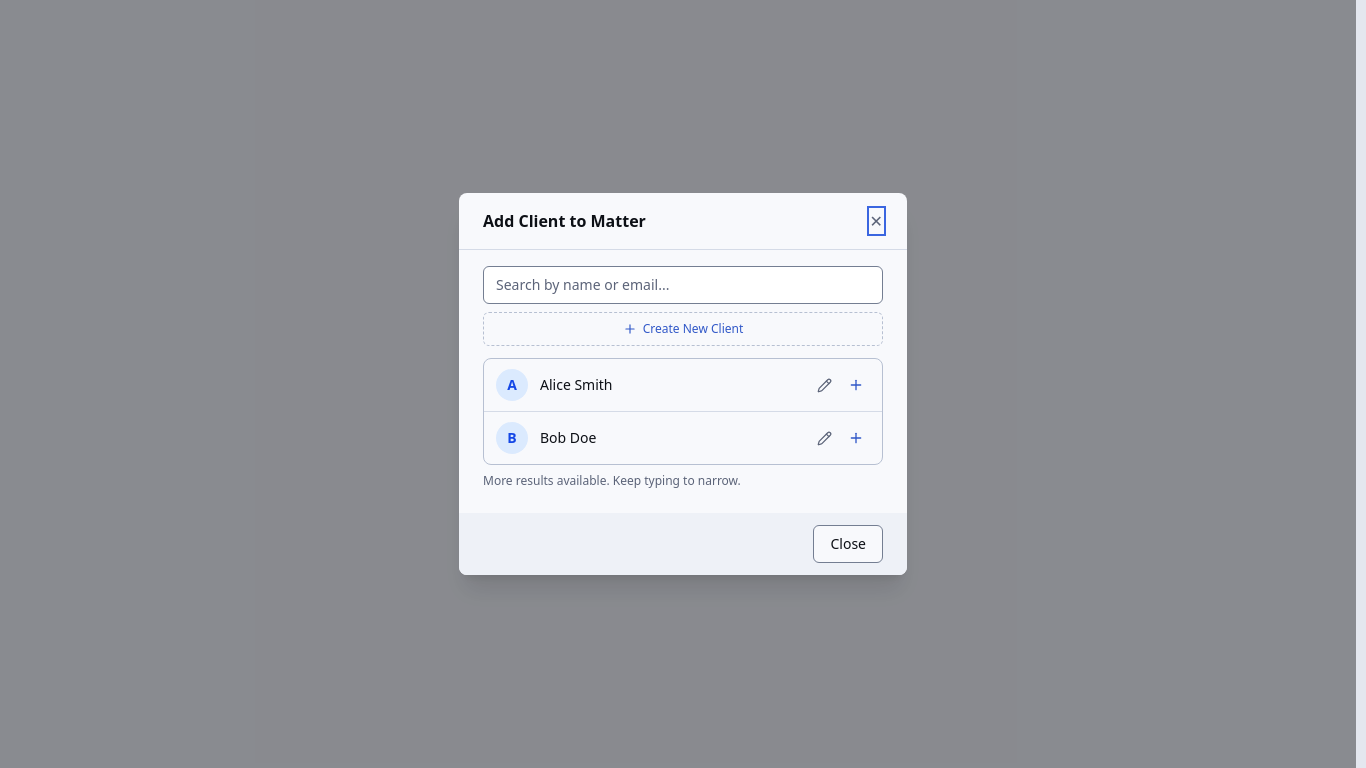
Test case: AddClientModal existing-client search › drops the note when a later load fails
This screenshot has width=1366, height=768.
Step 1. Click the field with placeholder "Search by name or email..." → (683, 285), box [483, 266, 883, 304]
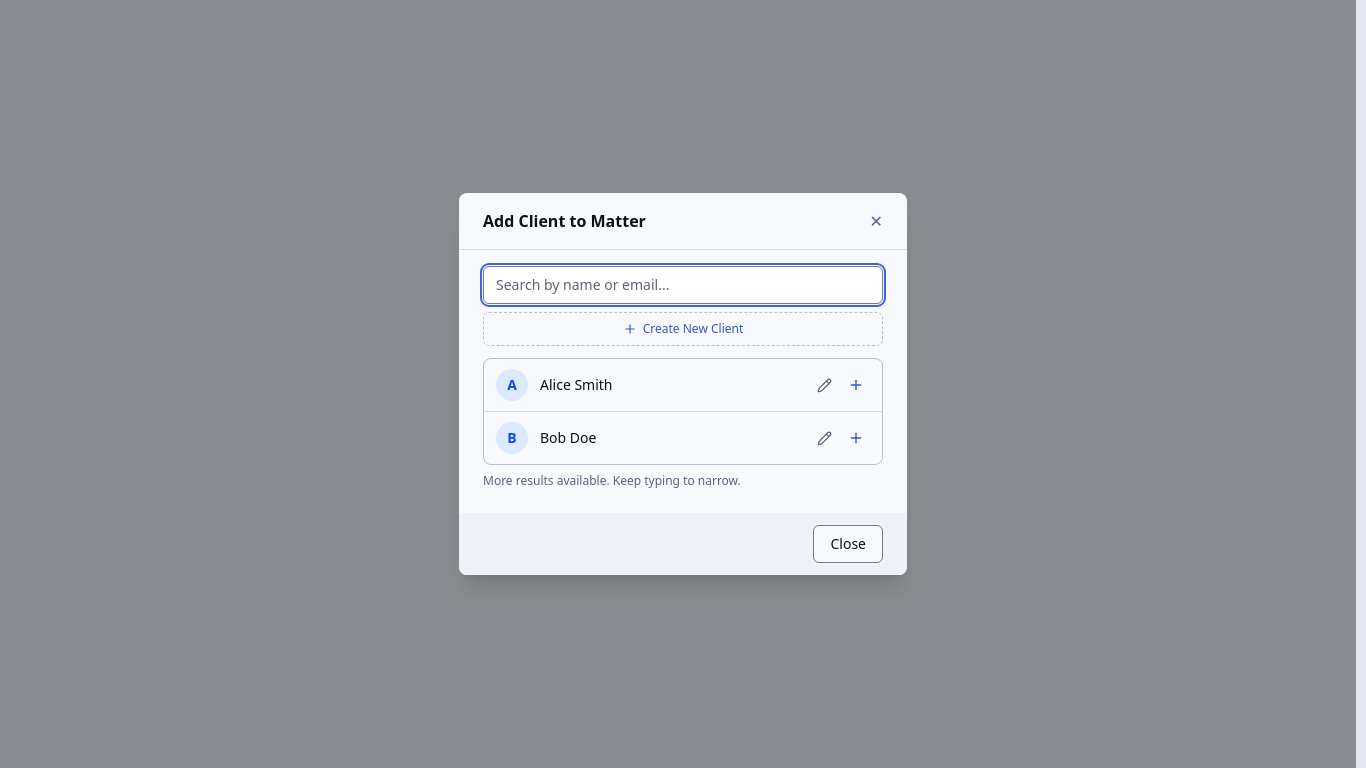
Expected: the text "More results available. Keep typing to narrow." is shown, [483, 472, 741, 489]
Step 2. Type "zzz" into the field with placeholder "Search by name or email..." → (683, 285), box [483, 266, 883, 304]
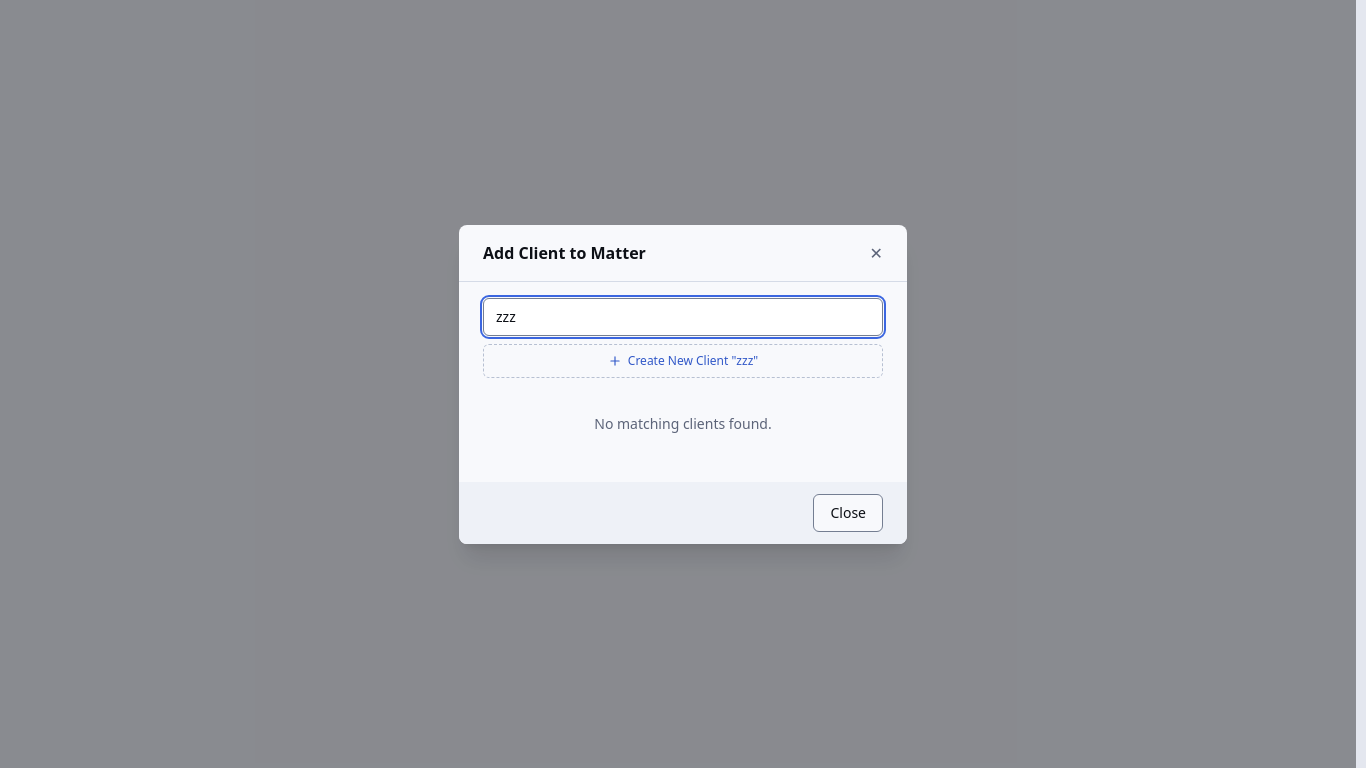
Expected: the text "No matching clients found." is shown, [594, 414, 772, 432]
Expected: the text "Keep typing to narrow" is gone
